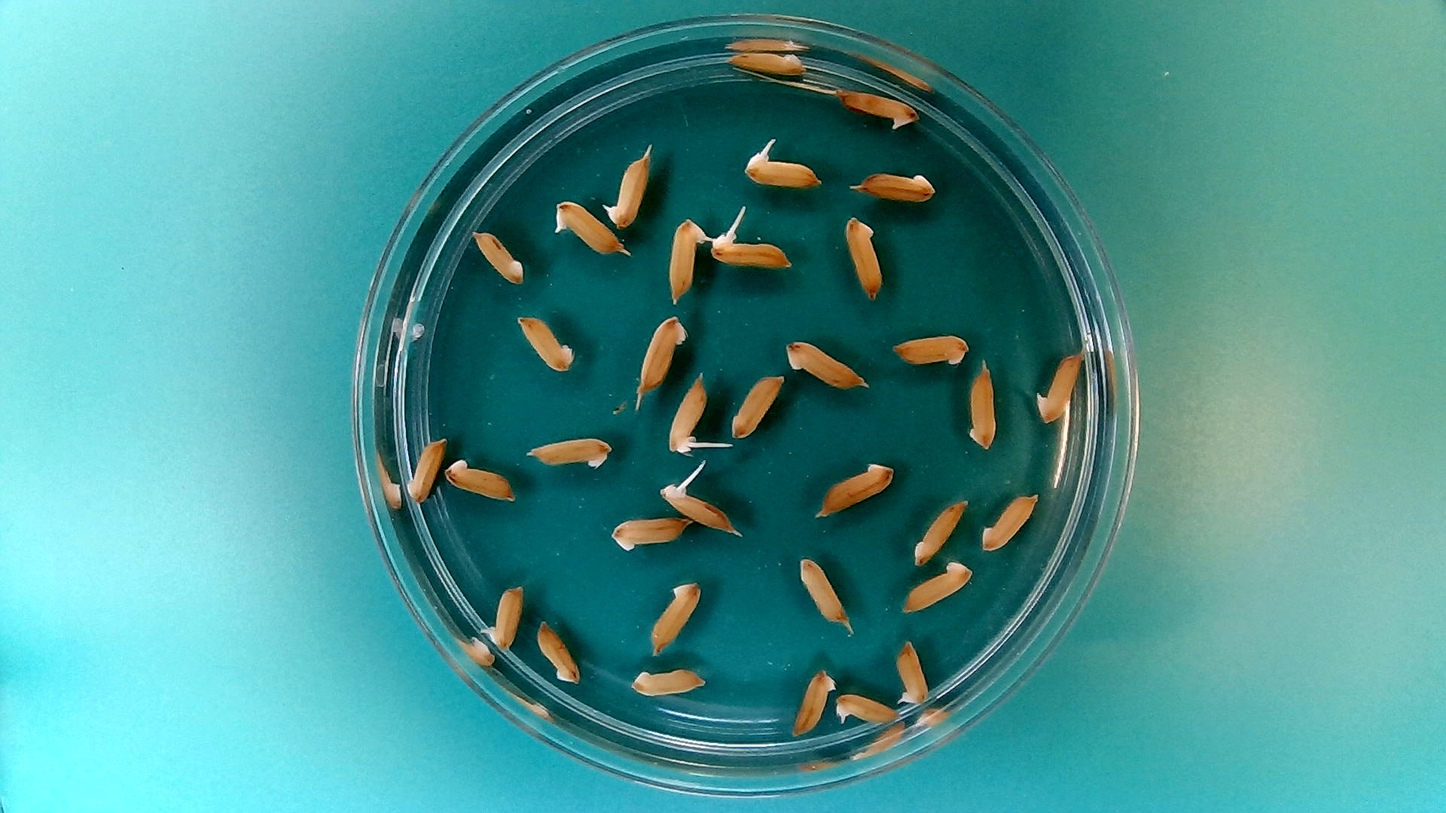no: (810, 456, 898, 521), (782, 333, 871, 393), (630, 311, 690, 400), (648, 581, 705, 657), (840, 211, 886, 305), (513, 309, 578, 374), (912, 499, 972, 568), (1033, 346, 1085, 425), (796, 553, 850, 629), (977, 489, 1039, 555), (834, 84, 922, 130), (729, 369, 786, 440), (521, 431, 615, 472), (900, 562, 974, 614), (602, 512, 693, 554), (441, 455, 519, 504), (787, 665, 837, 740), (963, 353, 1000, 454), (851, 166, 939, 206), (889, 328, 972, 370), (470, 227, 527, 288), (534, 615, 582, 687), (402, 434, 447, 504), (627, 664, 709, 700), (724, 46, 810, 78)
yes: (667, 211, 715, 306), (554, 202, 628, 259), (664, 367, 709, 455), (660, 483, 735, 534), (709, 229, 794, 272), (481, 579, 525, 652), (608, 160, 649, 229), (895, 635, 932, 705), (744, 154, 816, 188), (832, 691, 902, 725)
